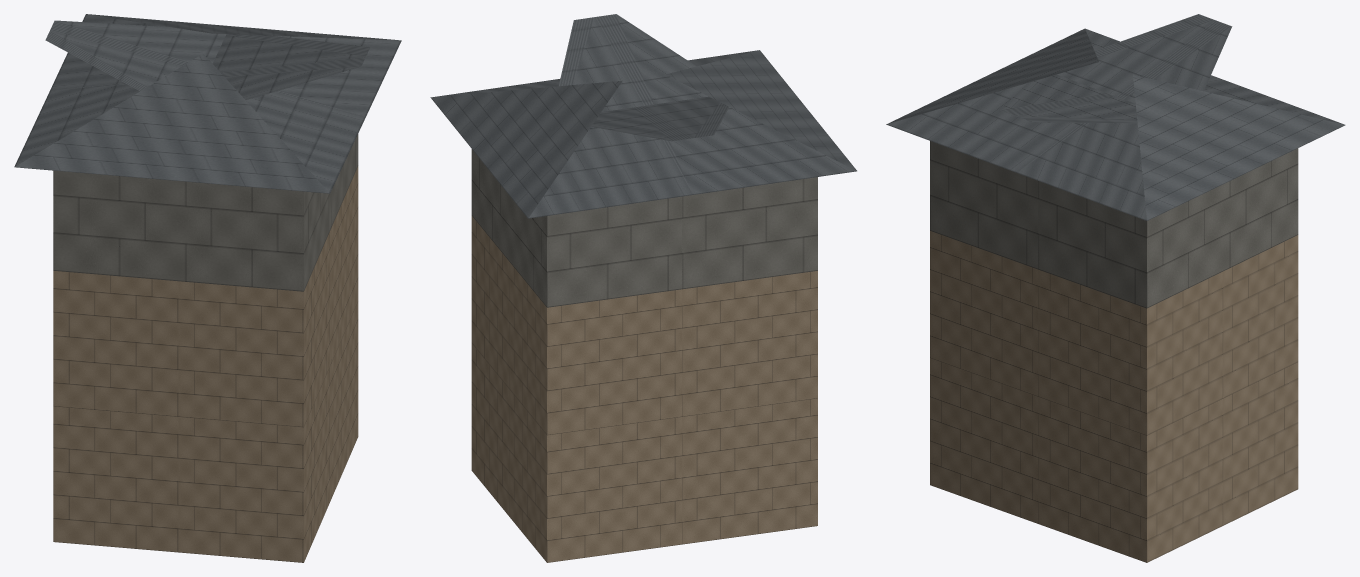
The model's file is bld_c-7_21_605.gltf.
3 renders of one model, left to right at view 1: azimuth 30°, elevation 25°; view 2: azimuth 150°, elevation 25°; view 3: azimuth 270°, elevation 25°, orthographic. The views are drawn at different scales.
Visible parts, largest first — view 1: bld_c-7_21_605; view 2: bld_c-7_21_605; view 3: bld_c-7_21_605.
Part boxes in pixels (box(x1,y1,x2,y2)): bld_c-7_21_605: box(14, 14, 401, 562); bld_c-7_21_605: box(430, 14, 856, 562); bld_c-7_21_605: box(886, 14, 1345, 562).
Bounding box in the file's own units: 7.31 × 7.4 × 7.37.
3 materials, 3 textured.
